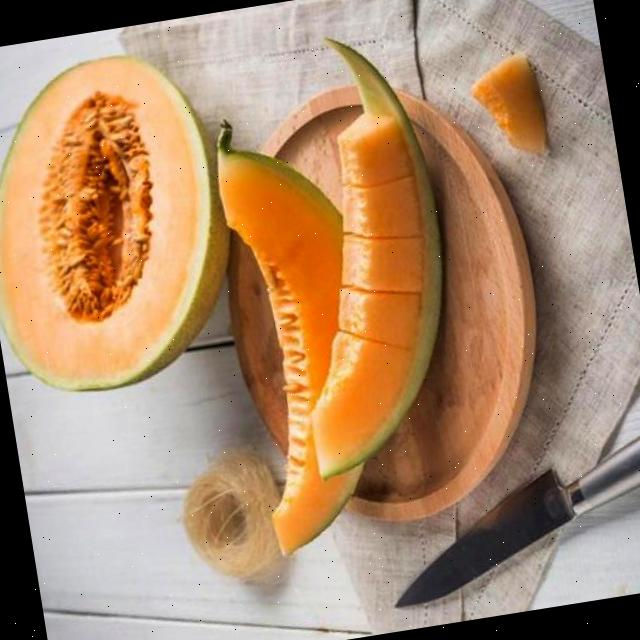Hami Melon: (0, 42, 253, 406)
